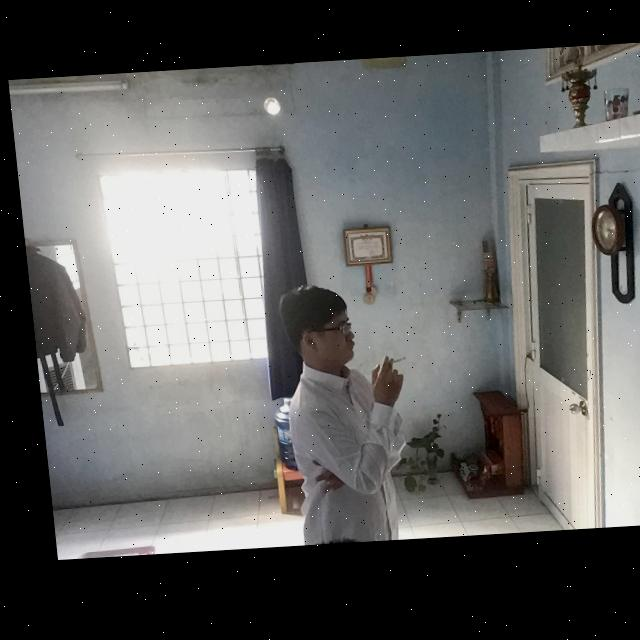cigarette: (380, 361, 398, 369)
